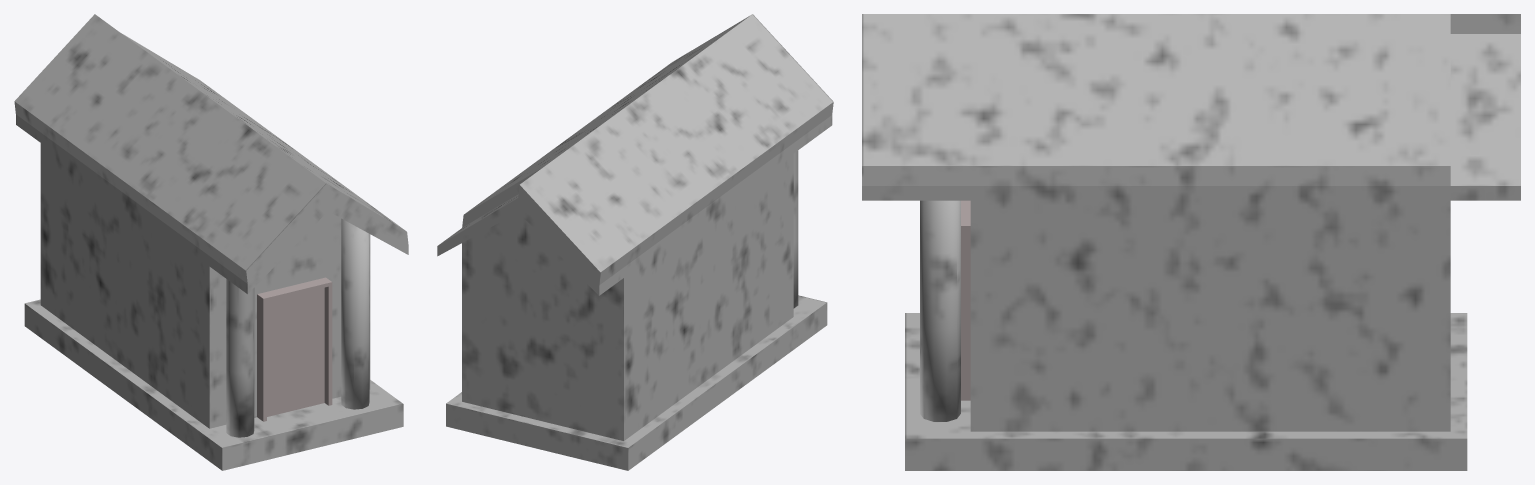
The model's file is mausoleo.fbx.
3 renders of one model, left to right at view 1: azimuth 30°, elevation 25°; view 2: azimuth 150°, elevation 25°; view 3: azimuth 270°, elevation 25°, orthographic. The views are drawn at different scales.
Visible parts, largest first — view 1: Building; view 2: Building; view 3: Building.
Part boxes in pixels (x1,y1,x2,y2): Building: [14, 14, 408, 470]; Building: [437, 14, 833, 470]; Building: [862, 14, 1520, 470].
Size of the model in its own units: 527 by 1167 by 769.
